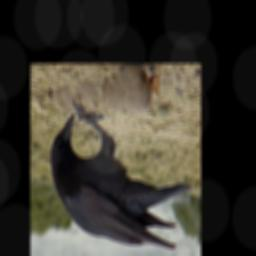Crow: (50, 94, 194, 250)
